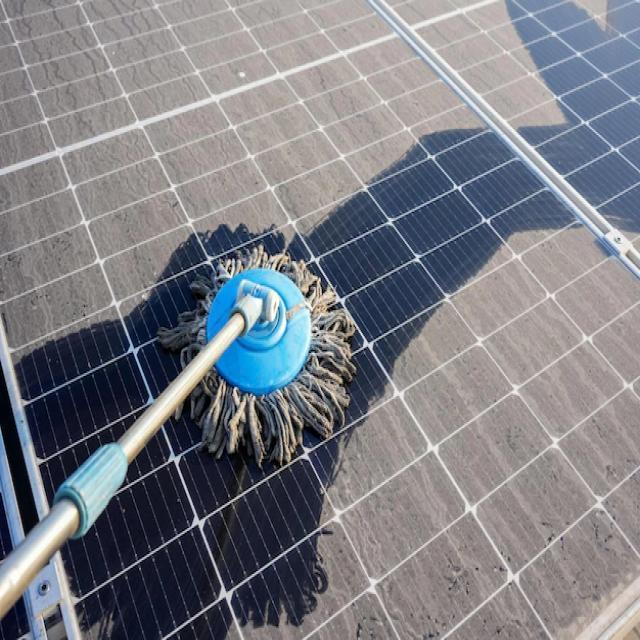Anomaly Solar Panel: (4, 1, 636, 638)
Surface Contaminant: (225, 228, 639, 639), (373, 0, 571, 129), (569, 0, 611, 37)
